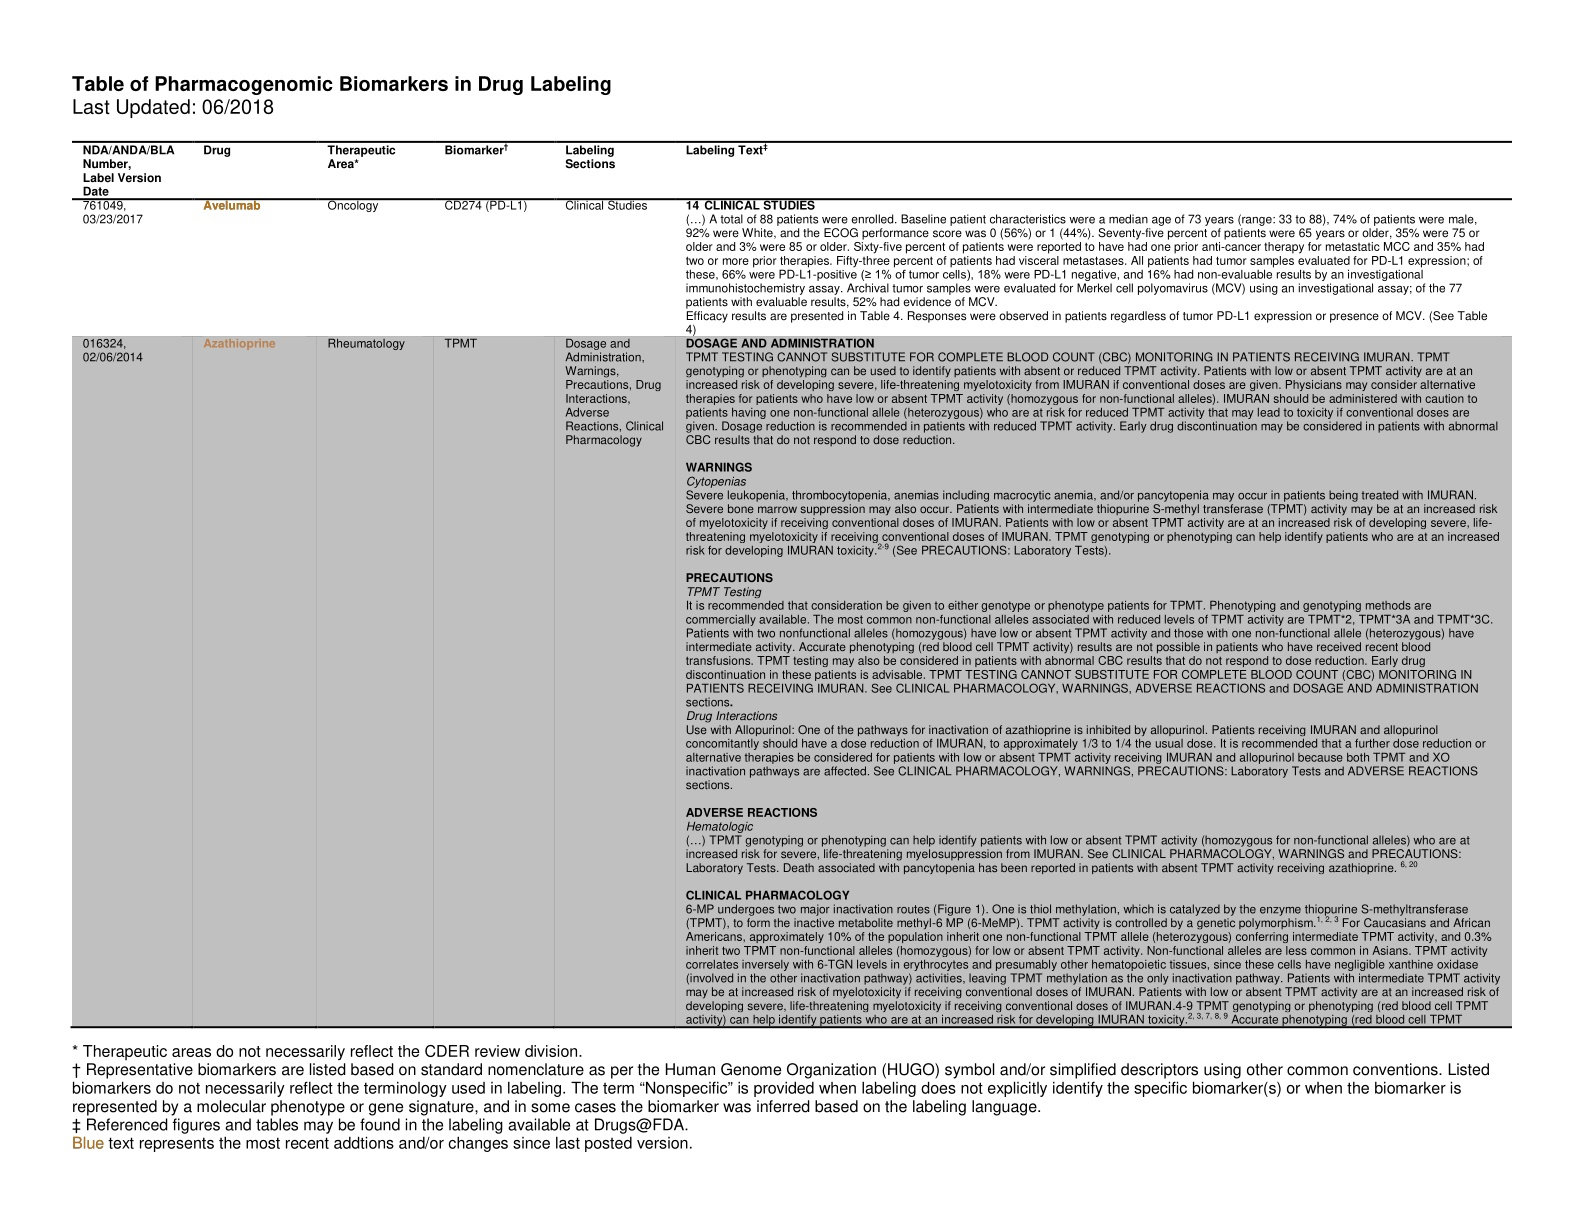partial_lined: (71, 140, 1515, 1030)
